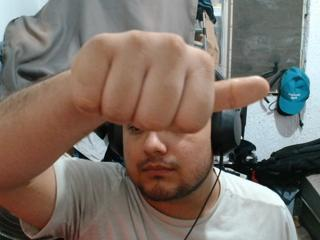Izquierda: (60, 17, 279, 142)
